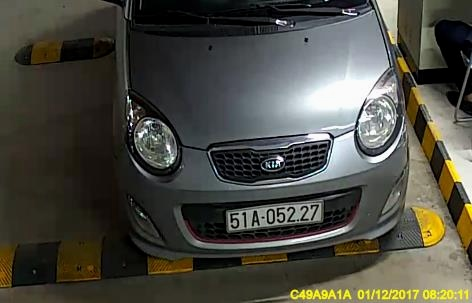plate: (222, 200, 323, 230)
